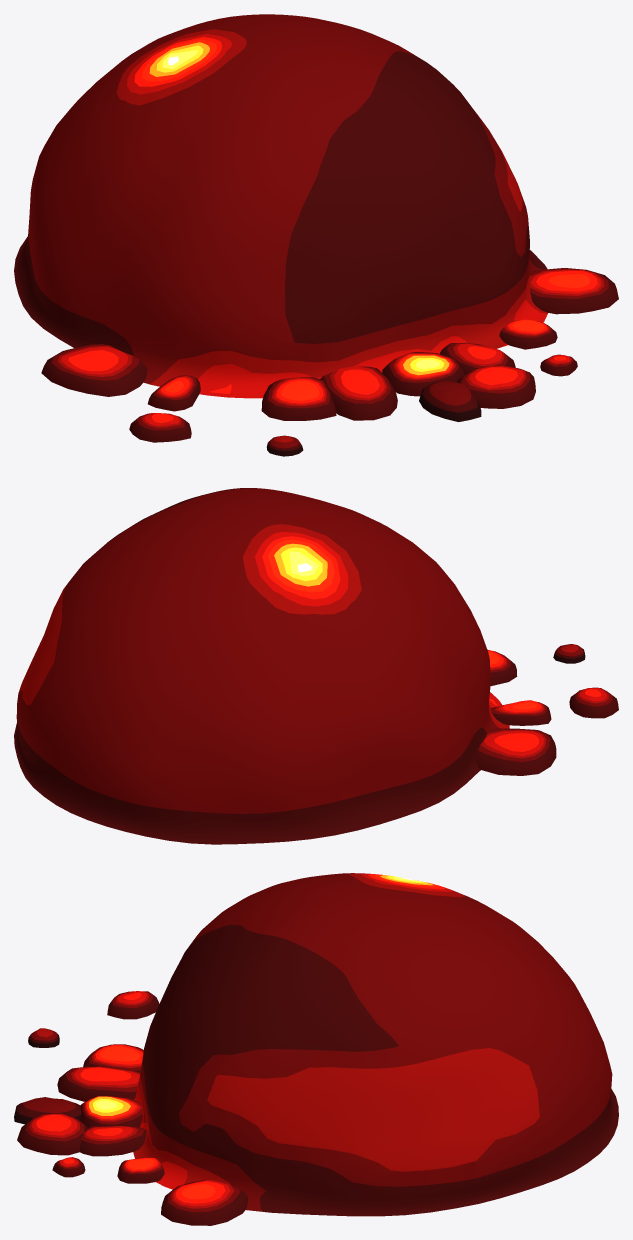
The model's file is lava_bubble_132.glb.
The picture shows the model from 3 angles, top to bottom: view 1: azimuth 30°, elevation 25°; view 2: azimuth 150°, elevation 25°; view 3: azimuth 270°, elevation 25°; orthographic projection. The views are drawn at different scales.
Visible parts, largest first — view 1: dome, splash0, splash4, splash7, splash6, splash10, splash8, splash11, splash2, splash1, splash9, splash5 (+2 smaller); view 2: dome, splash0, splash1, splash2, splash6, splash3; view 3: dome, splash4, splash7, splash10, splash9, splash8, splash6, splash2, splash11, splash5, splash3, splash12.
Boxes of the visible parts, x1=… form: dome: x1=14, y1=14, x2=547, y2=398; splash0: x1=41, y1=344, x2=147, y2=396; splash4: x1=529, y1=268, x2=618, y2=314; splash7: x1=320, y1=366, x2=397, y2=420; splash6: x1=261, y1=376, x2=336, y2=420; splash10: x1=457, y1=365, x2=535, y2=408; splash8: x1=382, y1=352, x2=464, y2=396; splash11: x1=419, y1=381, x2=481, y2=421; splash2: x1=129, y1=413, x2=191, y2=442; splash1: x1=147, y1=375, x2=200, y2=411; splash9: x1=440, y1=343, x2=515, y2=374; splash5: x1=499, y1=319, x2=557, y2=349; dome: x1=14, y1=488, x2=509, y2=844; splash0: x1=476, y1=728, x2=556, y2=775; splash1: x1=491, y1=700, x2=551, y2=725; splash2: x1=569, y1=687, x2=618, y2=718; splash6: x1=487, y1=649, x2=517, y2=685; splash3: x1=553, y1=644, x2=585, y2=663; dome: x1=133, y1=873, x2=618, y2=1216; splash4: x1=161, y1=1179, x2=248, y2=1225; splash7: x1=57, y1=1066, x2=140, y2=1101; splash10: x1=17, y1=1114, x2=88, y2=1155; splash9: x1=79, y1=1126, x2=146, y2=1156; splash8: x1=80, y1=1096, x2=142, y2=1127; splash6: x1=83, y1=1044, x2=143, y2=1071; splash2: x1=107, y1=991, x2=159, y2=1019; splash11: x1=14, y1=1097, x2=81, y2=1124; splash5: x1=117, y1=1156, x2=164, y2=1183; splash3: x1=28, y1=1028, x2=59, y2=1047; splash12: x1=52, y1=1157, x2=85, y2=1177.
Size of the model in its own units: 23.37 by 10.9 by 25.8.
